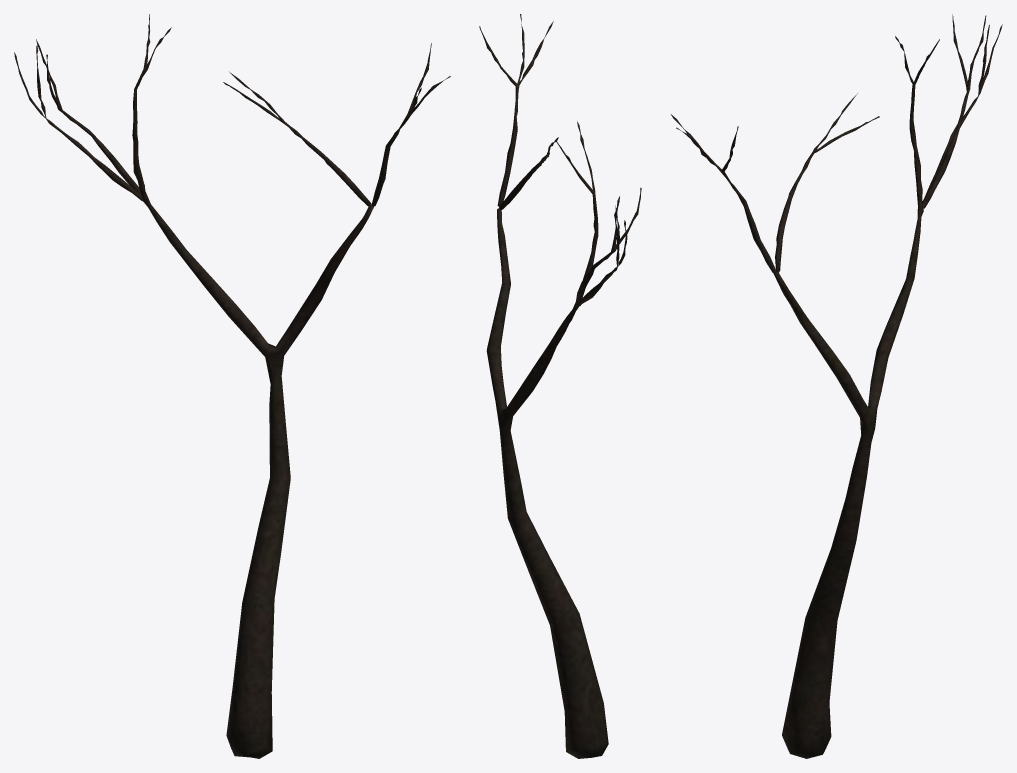
Rendered from deadtree.glb.
3 renders of one model, left to right at view 1: azimuth 30°, elevation 25°; view 2: azimuth 150°, elevation 25°; view 3: azimuth 270°, elevation 25°, orthographic. The views are drawn at different scales.
Visible parts, largest first — view 1: Main; view 2: Main; view 3: Main.
Part boxes in pixels (left/top/right/bottom): Main: left=14, top=14, right=450, bottom=758; Main: left=479, top=14, right=641, bottom=758; Main: left=671, top=14, right=1002, bottom=758.
Bounding box in the file's own units: 3.55 × 8.42 × 3.6.
1 material, 1 textured.
